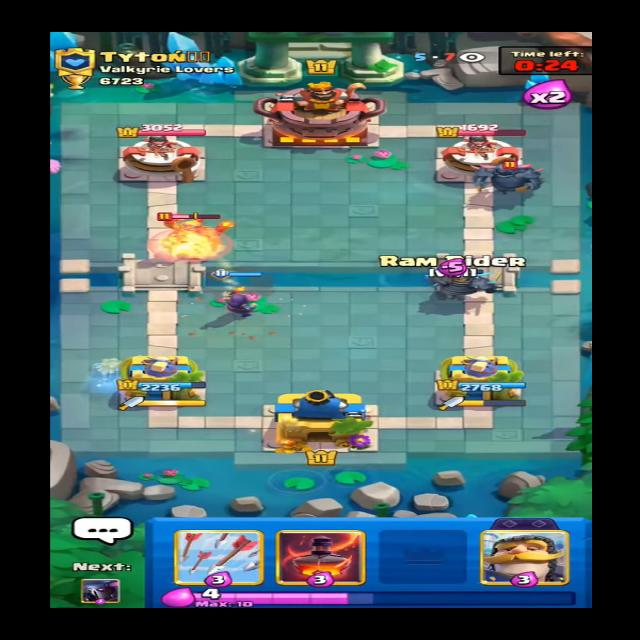Goblindemolisher: (139, 212, 233, 254)
Pekka: (469, 152, 541, 197)
